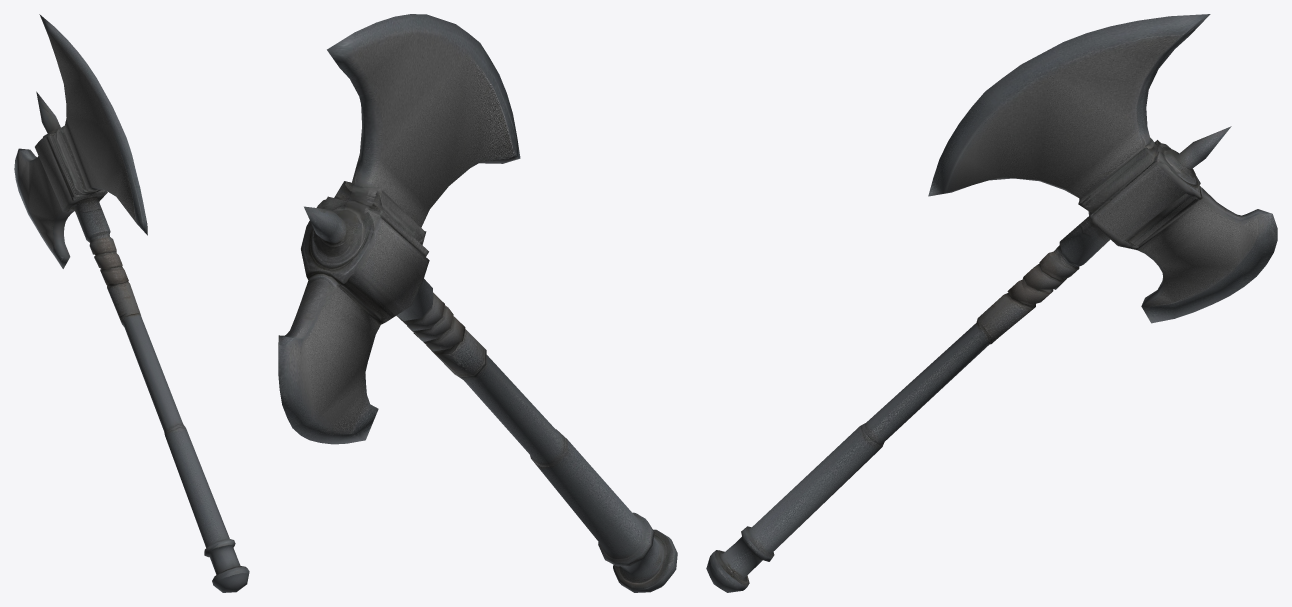
The model's file is tripo_convert_ef2ea40f-9baa-44fa-b2b5-94a010549231.fbx.
3 renders of one model, left to right at view 1: azimuth 30°, elevation 25°; view 2: azimuth 150°, elevation 25°; view 3: azimuth 270°, elevation 25°, orthographic. The views are drawn at different scales.
Parts seen in each view (by area): view 1: tripo_node_ef2ea40f; view 2: tripo_node_ef2ea40f; view 3: tripo_node_ef2ea40f.
Boxes of the visible parts, x1,y1,x2,y2 form: tripo_node_ef2ea40f: (14,14,249,592); tripo_node_ef2ea40f: (278,14,677,592); tripo_node_ef2ea40f: (706,14,1277,592).
Size of the model in its own units: 0.0879 by 0.998 by 0.9004.
